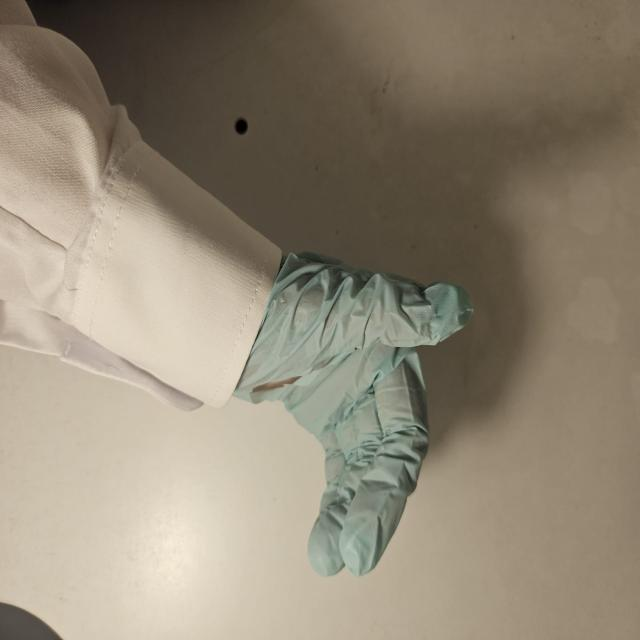gloves_damaged: (229, 240, 475, 574)
